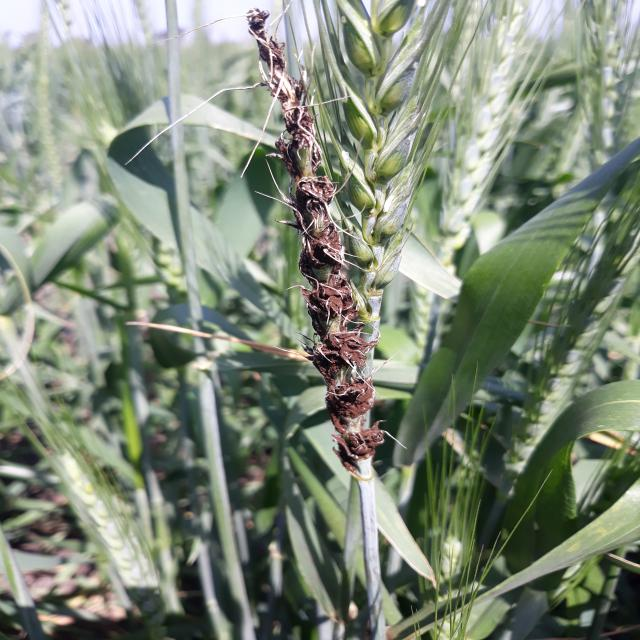loose_charred: (190, 2, 438, 584)
